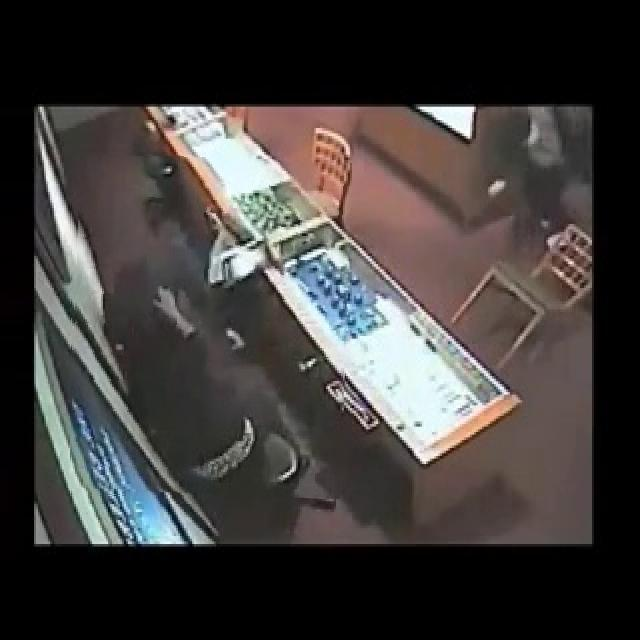Shoplifting: (71, 156, 349, 497)
